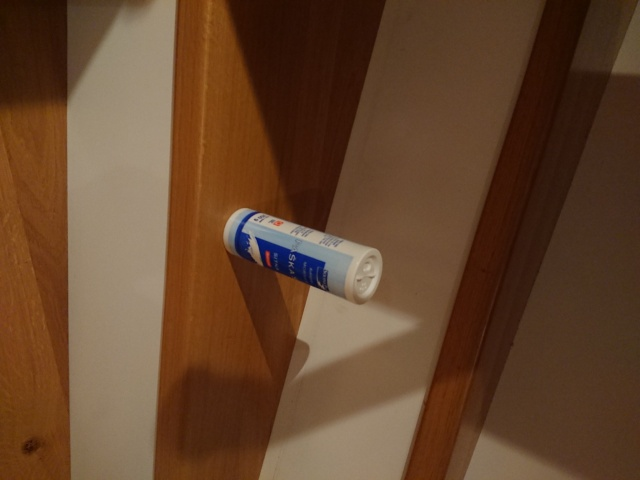Solana Pag Fine Sea Salt 250g: (219, 204, 386, 308)
